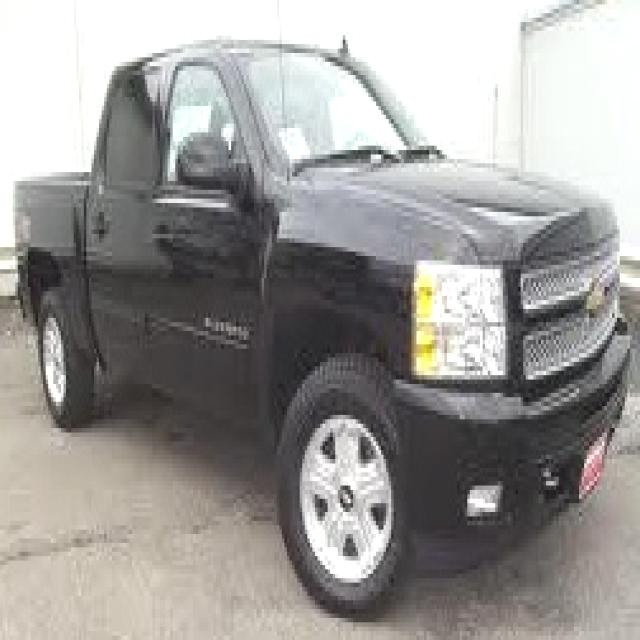CMT: (16, 33, 624, 606)
